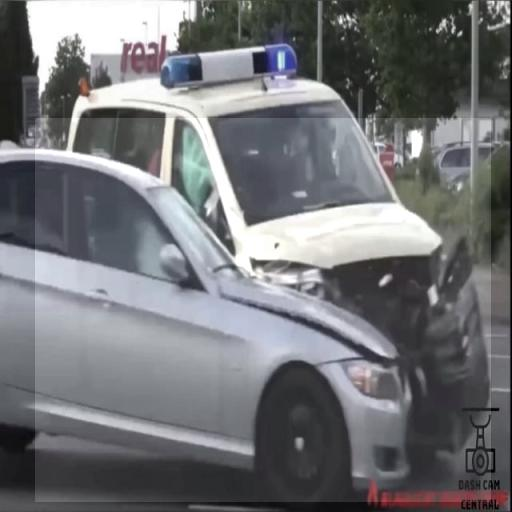小汽车撞小汽车: (35, 118, 491, 502)
